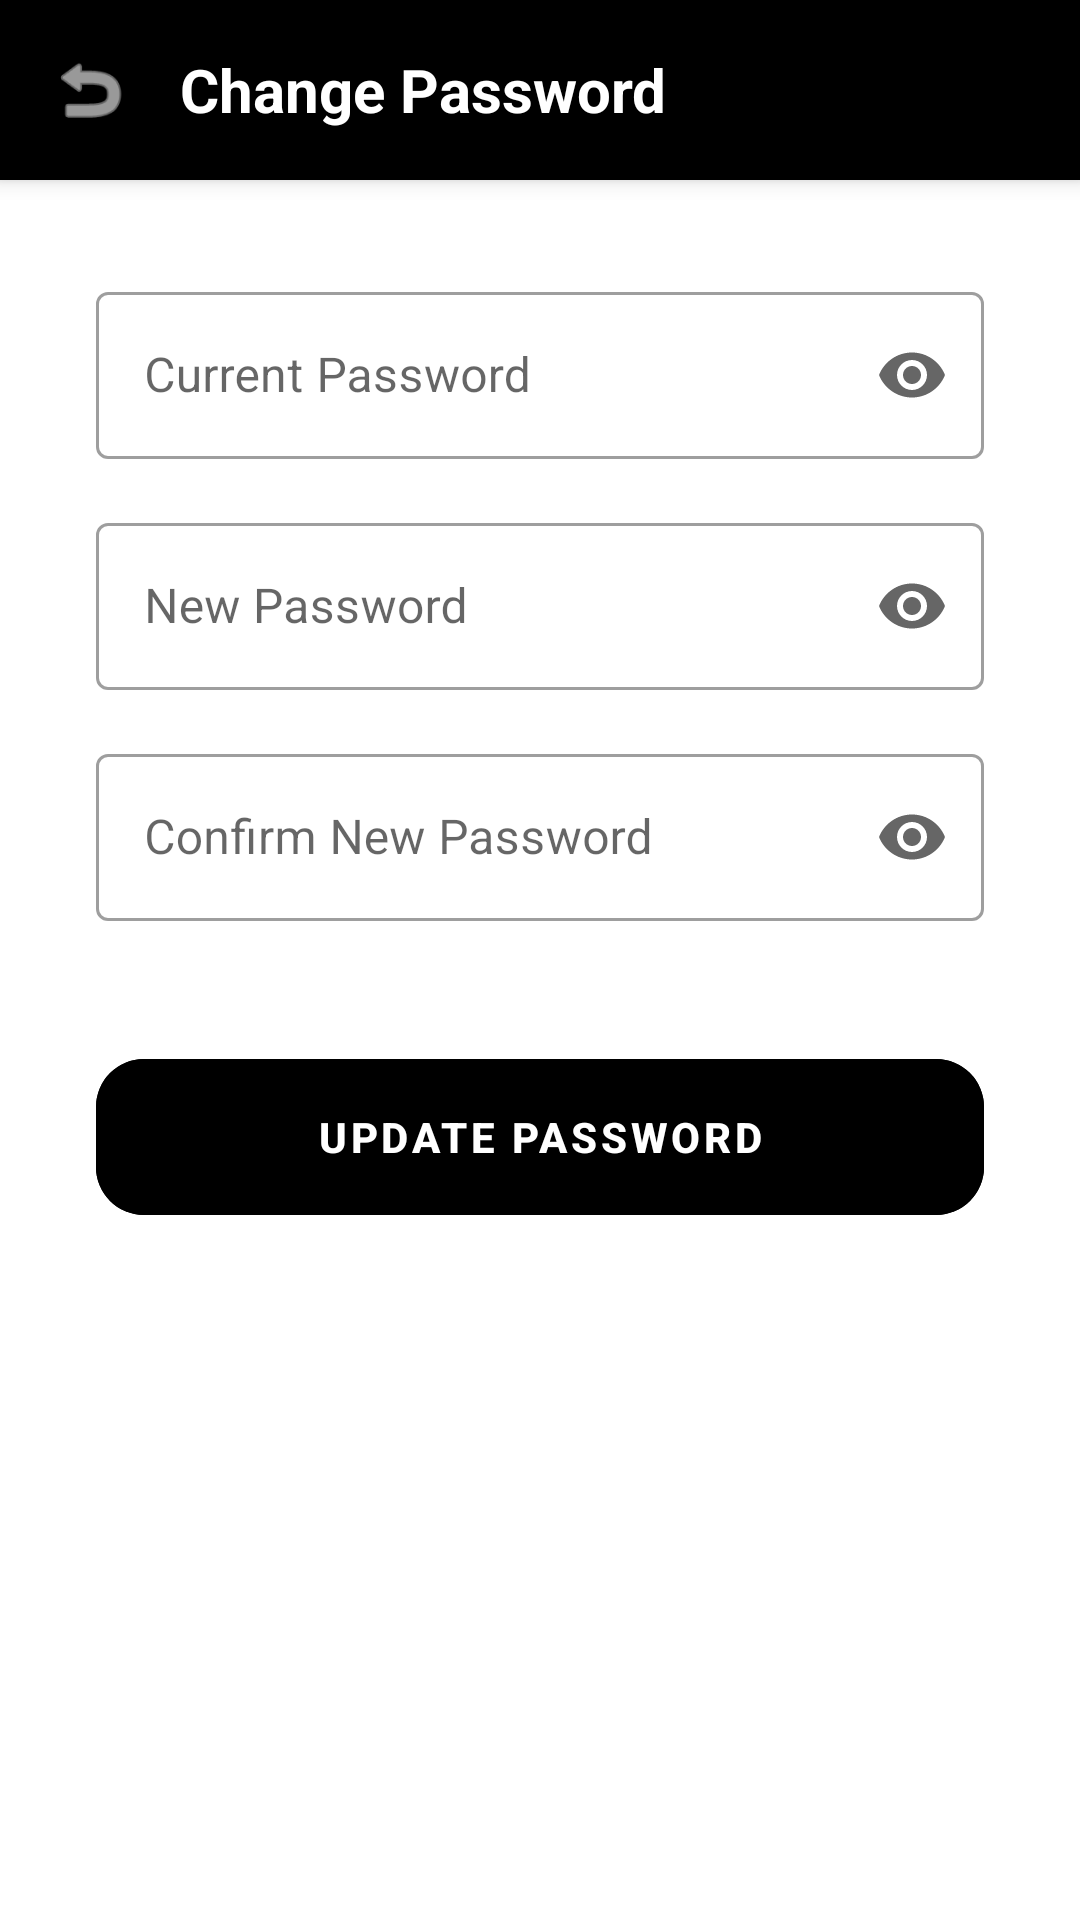

Icons on this 1080×1920 Android screen, each with its box as (x1, y1, x2, y2):
revert: (61, 63, 122, 118)
